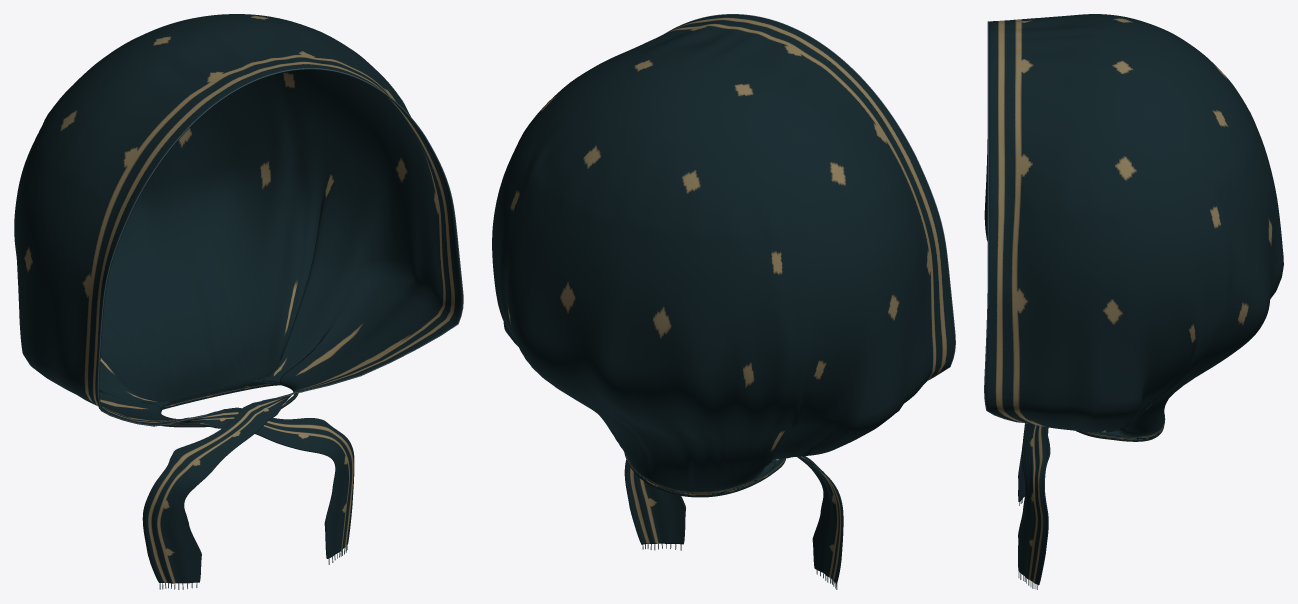
The model's file is Masculine-buzz-buttonup-pashmina249-headgear.glb.
3 renders of one model, left to right at view 1: azimuth 30°, elevation 25°; view 2: azimuth 150°, elevation 25°; view 3: azimuth 270°, elevation 25°, orthographic. The views are drawn at different scales.
Visible parts, largest first — view 1: 226 headgear / Headwear / continuous woven pashmina239, 226 headgear / Headwear / face edge239; view 2: 226 headgear / Headwear / continuous woven pashmina239, 226 headgear / Headwear / face edge239; view 3: 226 headgear / Headwear / continuous woven pashmina239, 226 headgear / Headwear / face edge239.
Part boxes in pixels (x1=…): 226 headgear / Headwear / continuous woven pashmina239: x1=14, y1=14, x2=462, y2=583; 226 headgear / Headwear / face edge239: x1=97, y1=68, x2=463, y2=426; 226 headgear / Headwear / continuous woven pashmina239: x1=492, y1=14, x2=954, y2=583; 226 headgear / Headwear / face edge239: x1=665, y1=14, x2=955, y2=380; 226 headgear / Headwear / continuous woven pashmina239: x1=984, y1=14, x2=1283, y2=585; 226 headgear / Headwear / face edge239: x1=984, y1=21, x2=1020, y2=422.
Bounding box in the file's own units: 1.03 × 1.35 × 0.7152.
Materials: 3 (1 with a texture image).
